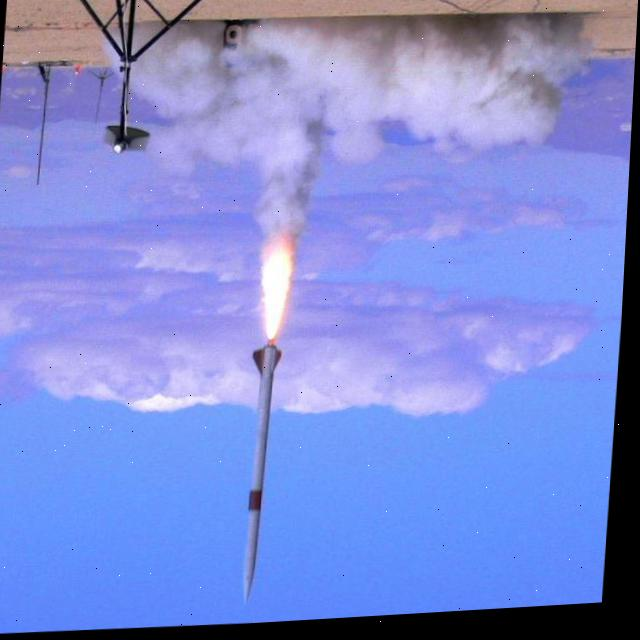missile: (238, 334, 301, 605)
